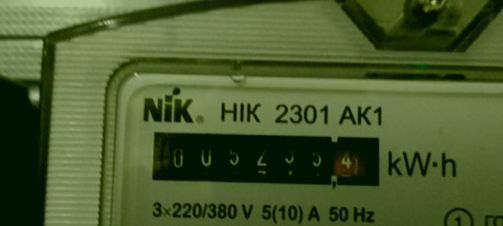0: (169, 143, 186, 169), (198, 141, 213, 167)
2: (253, 141, 268, 166)
3: (281, 139, 296, 164)
4: (338, 144, 354, 170)
5: (308, 141, 324, 168), (225, 141, 241, 167)
screen: (142, 122, 391, 193)
